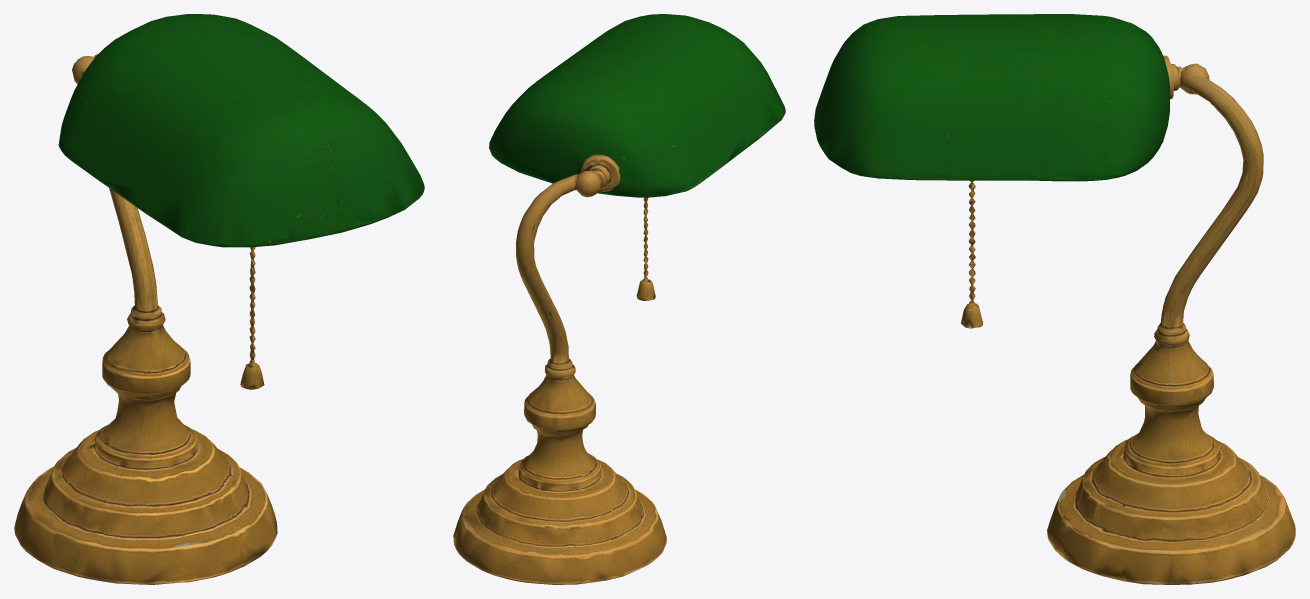
The model's file is lamp.glb.
3 views of the same model, side by side, from view 1: azimuth 30°, elevation 25°; view 2: azimuth 150°, elevation 25°; view 3: azimuth 270°, elevation 25° (orthographic). The views are drawn at different scales.
Size of the model in its own units: 0.9222 by 1.9 by 1.64.
Materials: 1 (1 with a texture image).
